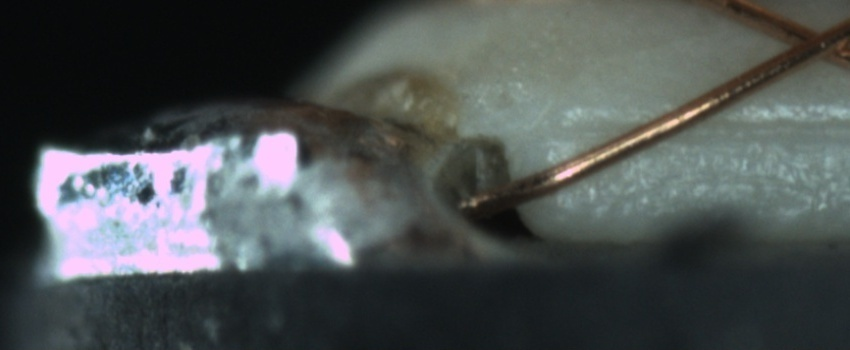CL: (772, 13, 848, 69)
DL: (568, 94, 848, 158)
